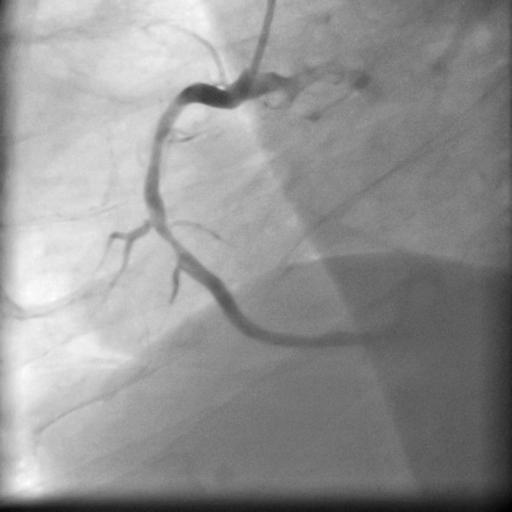Stenosis: (150, 209, 183, 259)
